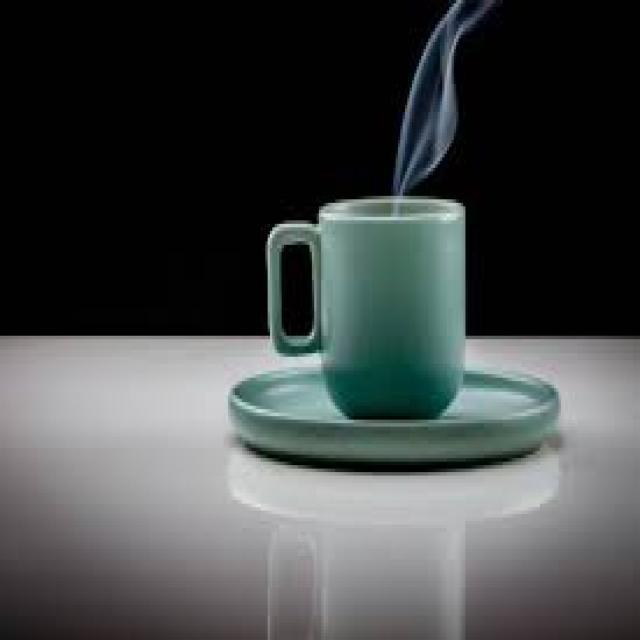taza: (260, 182, 484, 430)
